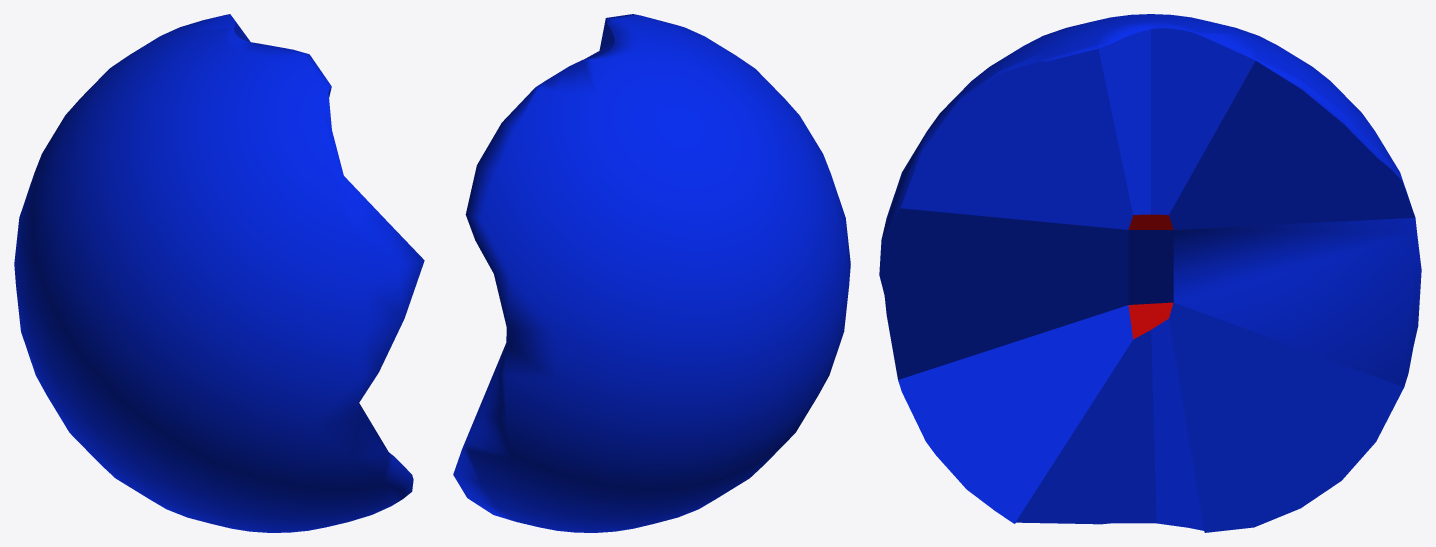
The model's file is Orbe_Triangle_F1.fbx.
3 views of the same model, side by side, from view 1: azimuth 30°, elevation 25°; view 2: azimuth 150°, elevation 25°; view 3: azimuth 270°, elevation 25° (orthographic). The views are drawn at different scales.
Parts seen in each view (by area): view 1: Orbe_Triangle_F1; view 2: Orbe_Triangle_F1; view 3: Orbe_Triangle_F1.
Part boxes in pixels (x1,y1,x2,y2): Orbe_Triangle_F1: (14,14,424,532); Orbe_Triangle_F1: (453,14,850,532); Orbe_Triangle_F1: (879,14,1421,532).
Bounding box in the file's own units: 124 × 198 × 197.
